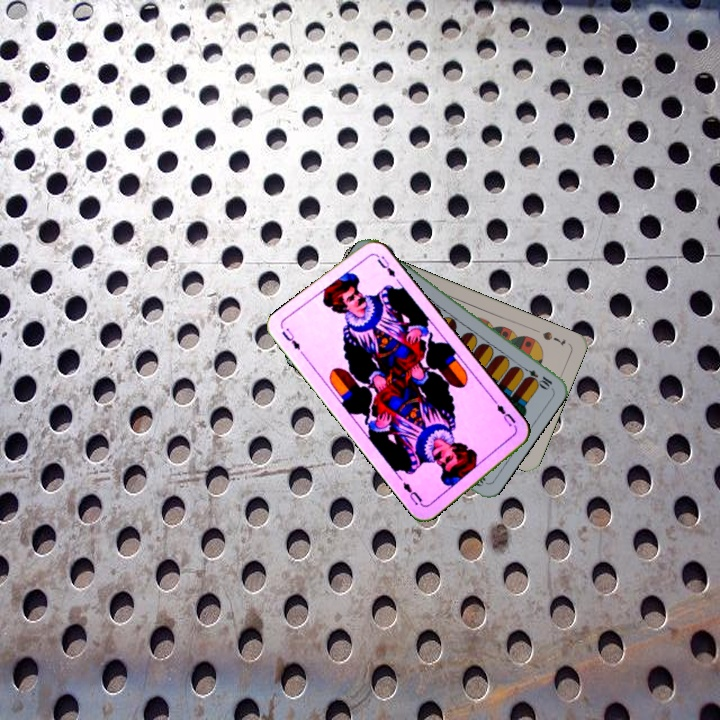E10: (517, 362, 555, 391)
EU: (491, 397, 520, 433), (277, 323, 303, 352)
S7: (538, 327, 568, 349)
